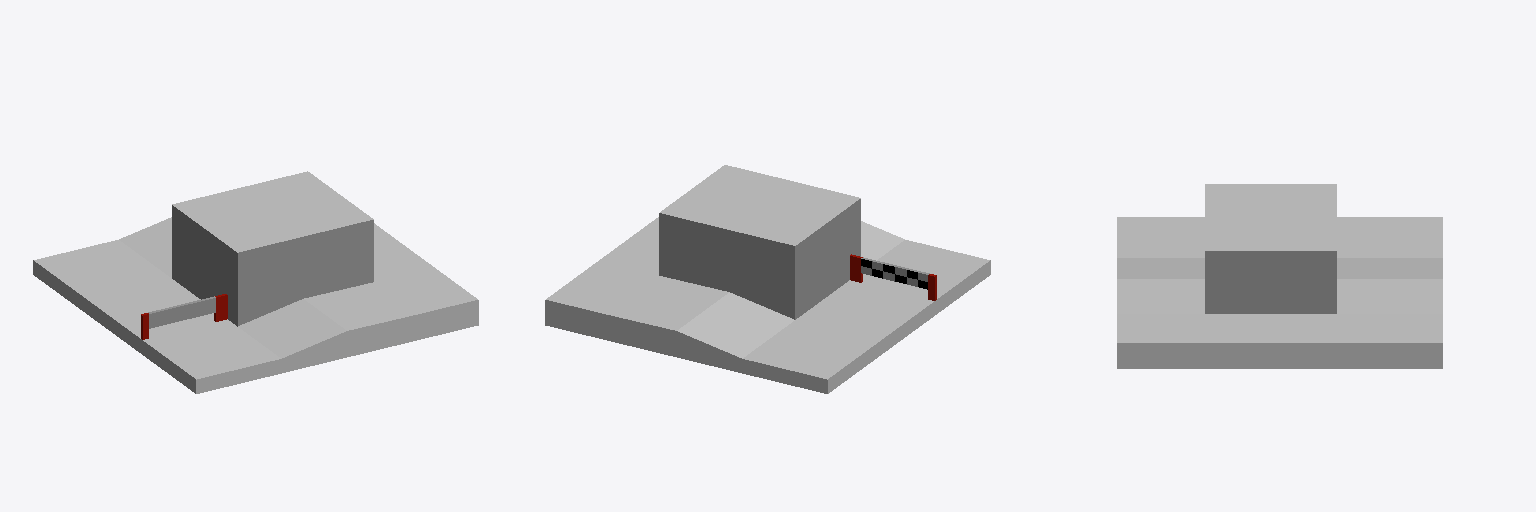
Rendered from texturedTrack (2).obj.
3 renders of one model, left to right at view 1: azimuth 30°, elevation 25°; view 2: azimuth 150°, elevation 25°; view 3: azimuth 270°, elevation 25°, orthographic.
Parts seen in each view (by area): view 1: Cube.000, Cube.002; view 2: Cube.000, Cube.002; view 3: Cube.000.
Boxes of the visible parts, box(x1,y1,x2,y2) form: Cube.000: box(33, 171, 478, 393); Cube.002: box(141, 294, 227, 339); Cube.000: box(545, 165, 990, 393); Cube.002: box(850, 254, 936, 300); Cube.000: box(1117, 184, 1442, 368).
Size of the model in its own units: 400 by 120 by 400.